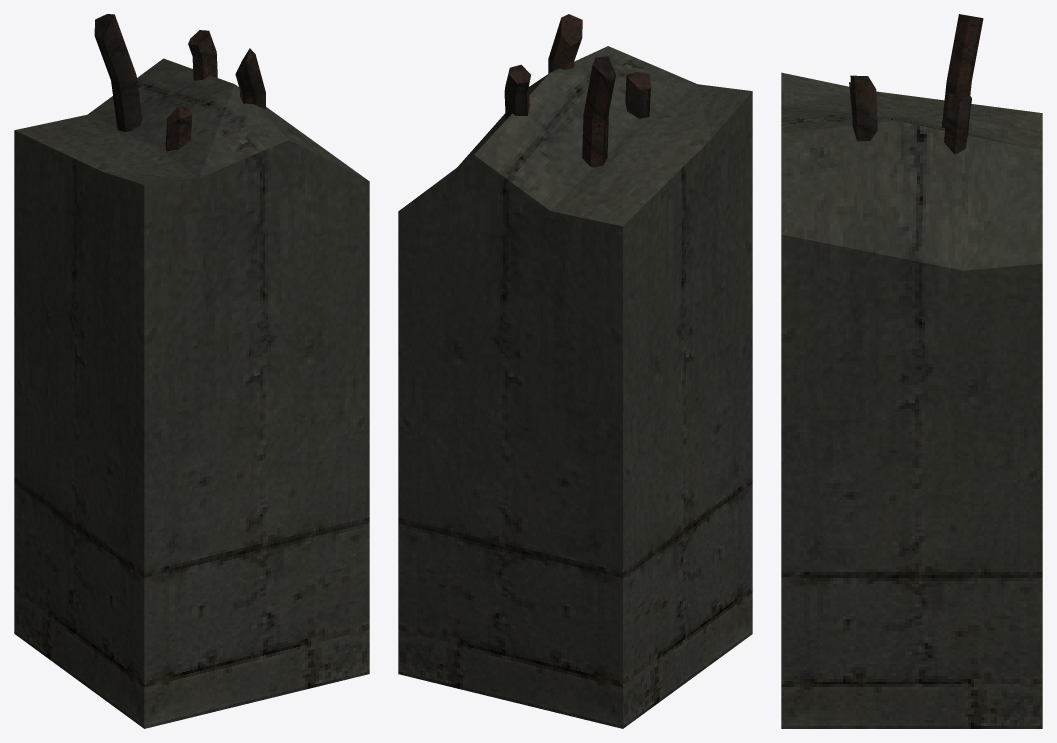
File: pillar_rg_1_broken.glb
3 renders of one model, left to right at view 1: azimuth 30°, elevation 25°; view 2: azimuth 150°, elevation 25°; view 3: azimuth 270°, elevation 25°, orthographic.
Visible parts, largest first — view 1: pillar_rg_1_broken; view 2: pillar_rg_1_broken; view 3: pillar_rg_1_broken.
Part boxes in pixels (x1,y1,x2,y2): pillar_rg_1_broken: (14, 14, 369, 728); pillar_rg_1_broken: (398, 14, 752, 728); pillar_rg_1_broken: (781, 14, 1042, 728).
Bounding box in the file's own units: 0.6 × 1.6 × 0.6.
2 materials, 2 textured.
